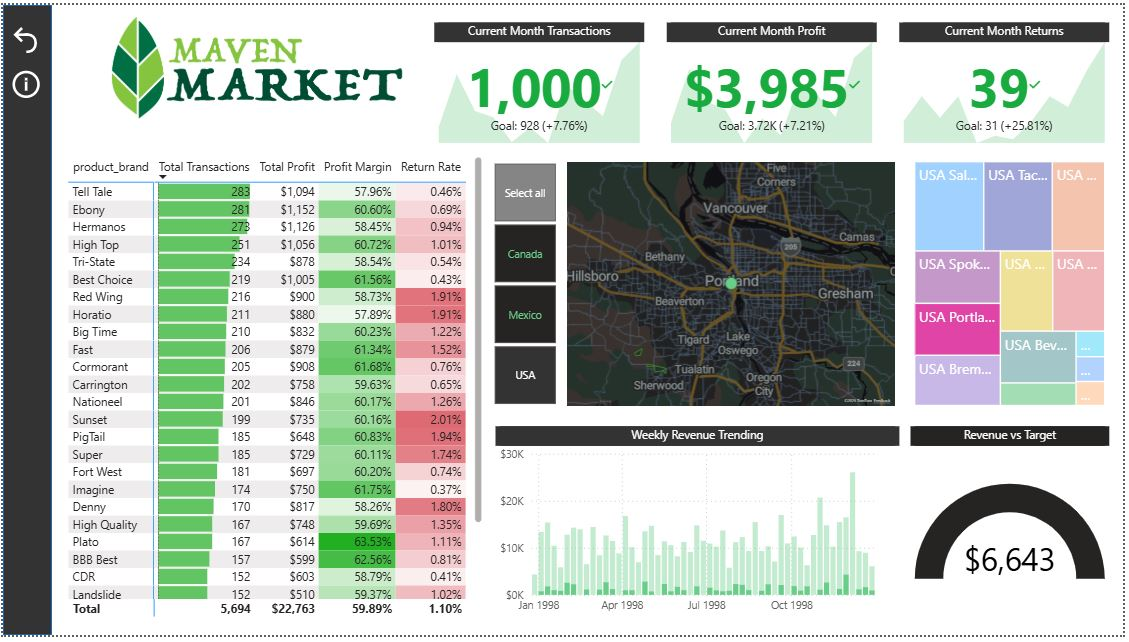

The dashboard page shown, as its layout file describes it:
{"tool":"powerbi","page":{"name":"Topline Performance","canvas":[1280,720],"ordinal":0},"visuals":[{"type":"slicer","fields":{"Values":["Stores.store_country"]},"box":[535.7,174.7,120,288.6],"z":0},{"type":"image","box":[94.3,0,388.6,142.9],"z":1000},{"type":"kpi","title":"Current Month Transactions","fields":{"Indicator":["Transactions Data.Total Transactions"],"TrendLine":["Calendar.Start of Month"],"Goal":["Transactions Data.Last Month Transactions"]},"box":[492.9,20,240,142.9],"z":2000},{"type":"pivotTable","fields":{"Values":["Transactions Data.Total Transactions","Transactions Data.Total Profit","Transactions Data.Profit Margin","Returns Data.Return Rate"],"Rows":["Products.product_brand"]},"box":[70,168.6,482.9,535.7],"z":3000},{"type":"kpi","title":"Current Month Profit","fields":{"TrendLine":["Calendar.Start of Month"],"Indicator":["Transactions Data.Total Profit"],"Goal":["Transactions Data.Last Month Profit"]},"box":[758.6,20,240,142.9],"z":4000},{"type":"kpi","title":"Current Month Returns","fields":{"TrendLine":["Calendar.Start of Month"],"Indicator":["Returns Data.Total Returns"],"Goal":["Returns Data.Last Month Returns"]},"box":[1024.3,20,240,142.9],"z":5000},{"type":"azureMap","fields":{"Size":["Transactions Data.Total Transactions"],"Category":["Stores.store_city"]},"box":[640,174.3,384.3,288.6],"z":6000},{"type":"treemap","fields":{"Values":["Transactions Data.Total Transactions"],"Group":["Stores.store_country","Stores.store_city","Stores.store_state"]},"box":[1037.1,174.3,227.1,288.6],"z":7000},{"type":"clusteredColumnChart","title":"Weekly Revenue Trending","fields":{"Y":["Transactions Data.Total Revenue"],"Category":["Calendar.Start of Week"]},"box":[562.9,481.4,461.4,222.9],"z":8000},{"type":"gauge","title":"Revenue vs Target","fields":{"Y":["Transactions Data.Total Revenue"],"MaxValue":["Transactions Data.Revenue Target"]},"box":[1037.1,481.4,227.1,222.9],"z":9000},{"type":"shape","box":[0,0,55.7,720],"z":10000},{"type":"actionButton","box":[6,20,45,40],"z":11000},{"type":"actionButton","box":[5.7,70,44.3,41.4],"z":12000}]}

Visuals, with their boxes in screenshot pixels (x1, y1, x2, y2), scaled from the page's 1280x720 canvas onto the 1129x642 screenshot:
slicer - Stores.store_country: {"left": 473, "top": 156, "right": 578, "bottom": 413}
image: {"left": 83, "top": 0, "right": 426, "bottom": 127}
"Current Month Transactions" kpi: {"left": 435, "top": 18, "right": 646, "bottom": 145}
pivotTable - Transactions Data.Total Transactions x Transactions Data.Total Profit: {"left": 62, "top": 150, "right": 488, "bottom": 628}
"Current Month Profit" kpi: {"left": 669, "top": 18, "right": 881, "bottom": 145}
"Current Month Returns" kpi: {"left": 903, "top": 18, "right": 1115, "bottom": 145}
azureMap - Transactions Data.Total Transactions x Stores.store_city: {"left": 564, "top": 155, "right": 903, "bottom": 413}
treemap - Transactions Data.Total Transactions x Stores.store_country: {"left": 915, "top": 155, "right": 1115, "bottom": 413}
"Weekly Revenue Trending" clusteredColumnChart: {"left": 496, "top": 429, "right": 903, "bottom": 628}
"Revenue vs Target" gauge: {"left": 915, "top": 429, "right": 1115, "bottom": 628}
shape: {"left": 0, "top": 0, "right": 49, "bottom": 641}
actionButton: {"left": 5, "top": 18, "right": 45, "bottom": 54}
actionButton: {"left": 5, "top": 62, "right": 44, "bottom": 99}
